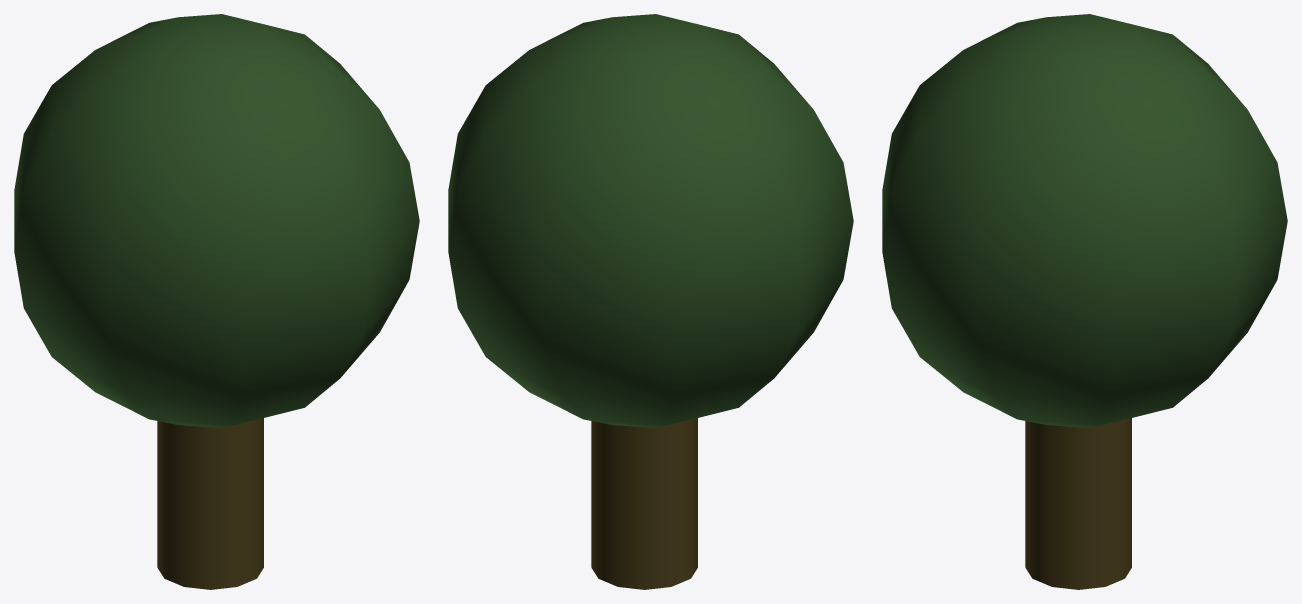
File: Tree.glb
3 renders of one model, left to right at view 1: azimuth 30°, elevation 25°; view 2: azimuth 150°, elevation 25°; view 3: azimuth 270°, elevation 25°, orthographic.
Visible parts, largest first — view 1: Sphere, Cube; view 2: Sphere, Cube; view 3: Sphere, Cube.
Part boxes in pixels (x1,y1,x2,y2): Sphere: (14,14,419,428); Cube: (157,418,263,589); Sphere: (448,14,853,428); Cube: (591,418,697,589); Sphere: (882,14,1287,428); Cube: (1025,418,1131,589).
Bounding box in the file's own units: 1.16 × 1.66 × 1.14.
